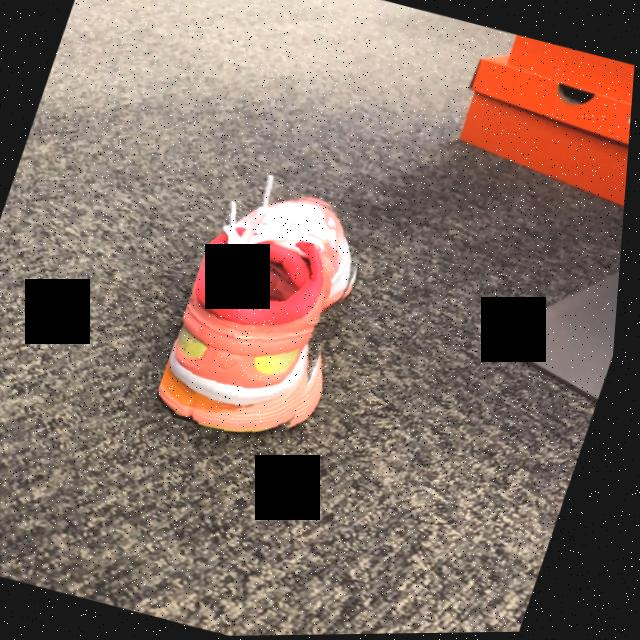shoe: (166, 199, 357, 435)
